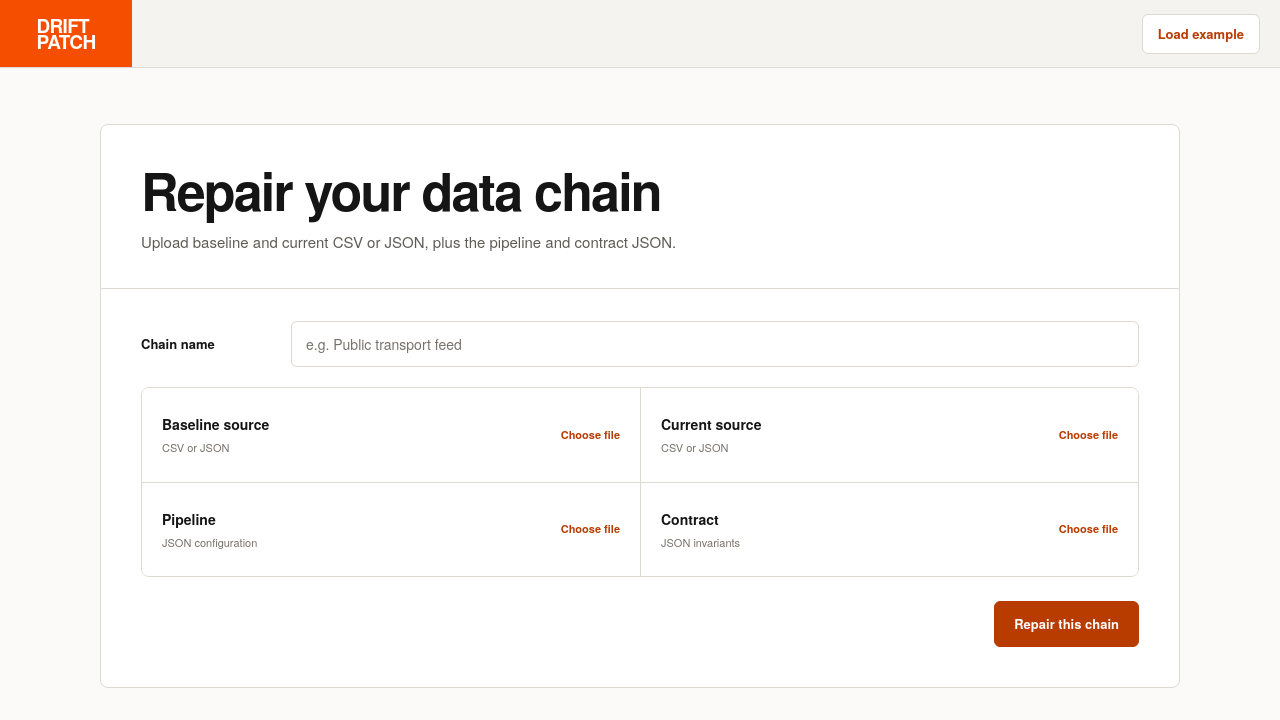
Test: loads the curated example into fields that remain replaceable
This screenshot has width=1280, height=720.
Step 1. Click the button "Load example" → (1201, 34), box [1142,14,1260,54]
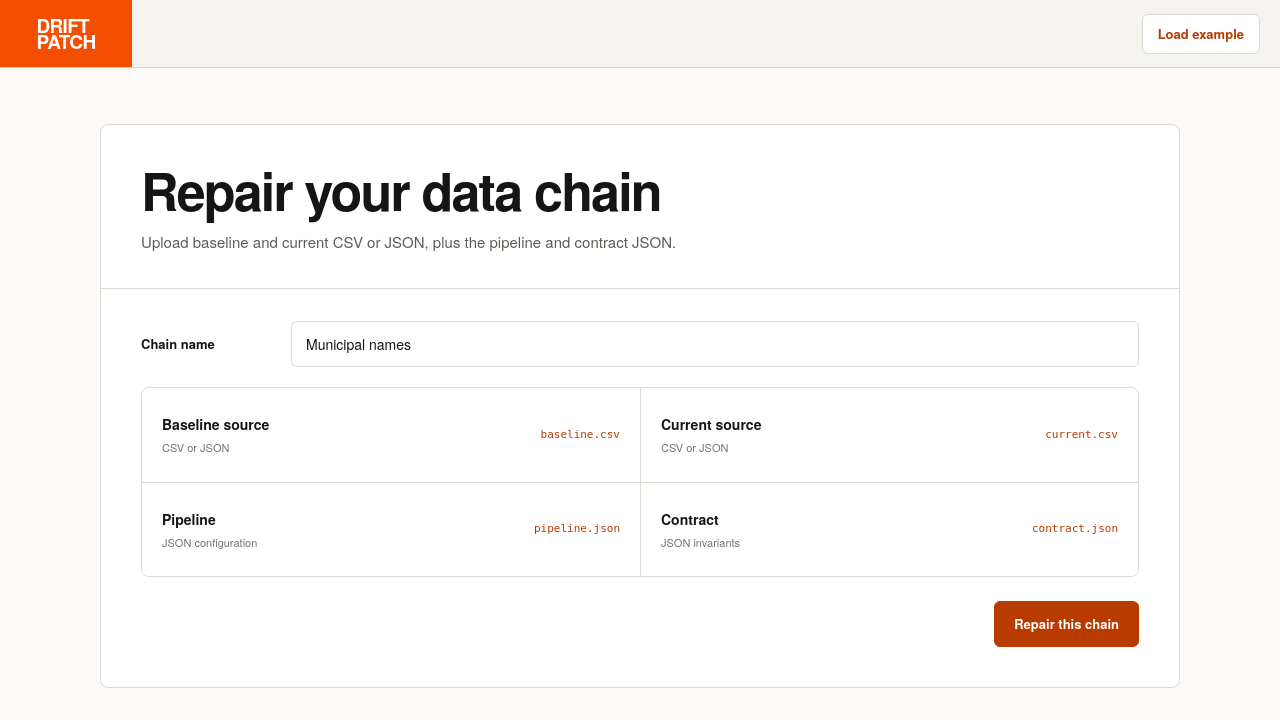
Result: the field showing "Municipal names" is shown at [291,320,1139,366]
Result: the text "baseline.csv" is shown at [540,427,620,442]
Result: the text "current.csv" is shown at [1045,427,1118,442]
